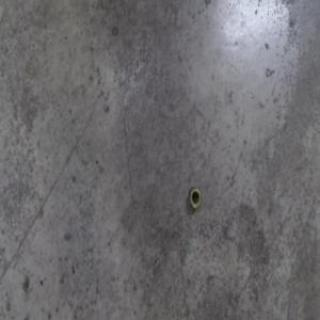Nuttrack_idkeyframe: (188, 185, 201, 211)
